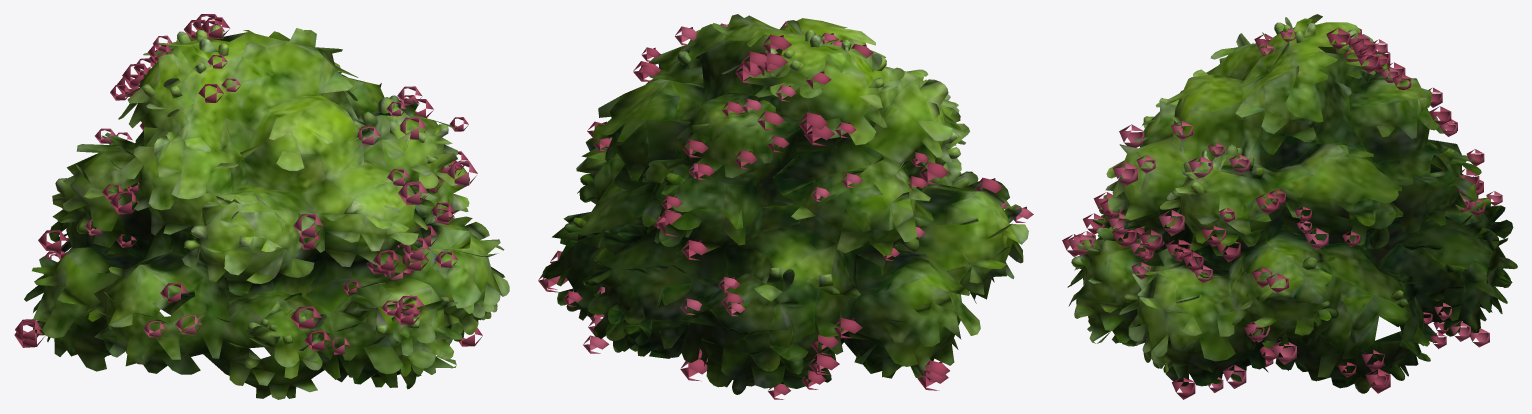
File: bush_flower.glb
The picture shows the model from 3 angles, left to right: view 1: azimuth 30°, elevation 25°; view 2: azimuth 150°, elevation 25°; view 3: azimuth 270°, elevation 25°; orthographic projection. The views are drawn at different scales.
Bounding box in the file's own units: 1.48 × 1.09 × 1.56.
2 materials, 1 textured.
